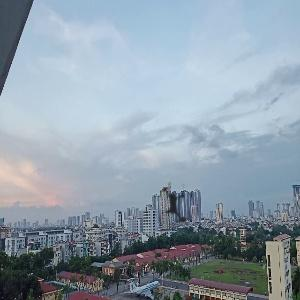drone: (139, 167, 212, 240)
